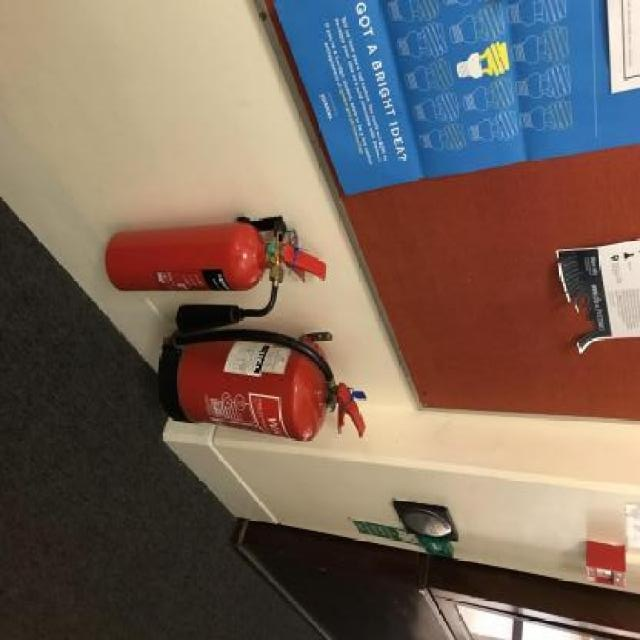fire extinguisher: (105, 221, 326, 336), (156, 330, 367, 444)
